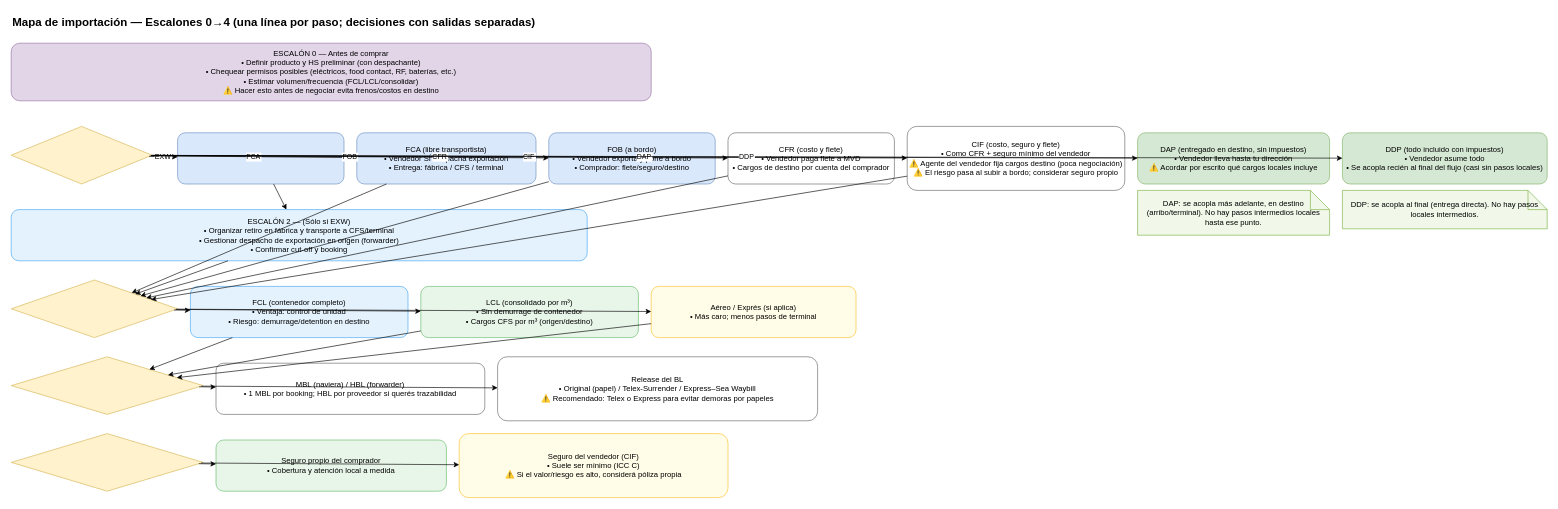
This 1558x509 diagram has some shape labels left out. Here are the shapes that lost their labels. From the top down, the centre of each, then its label:
At (81,155): "ESCALÓN 1 — ¿Qué Incoterm usar?".
At (260,158): "EXW (en fábrica) • Vendedor NO despacha exportación • Comprador retira y exporta".
At (94,308): "ESCALÓN 3 — ¿Modo de embarque?".
At (107,385): "ESCALÓN 4 — ¿BL y tipo de release?".
At (107,462): "ESCALÓN 4 — ¿Seguro de transporte?".
